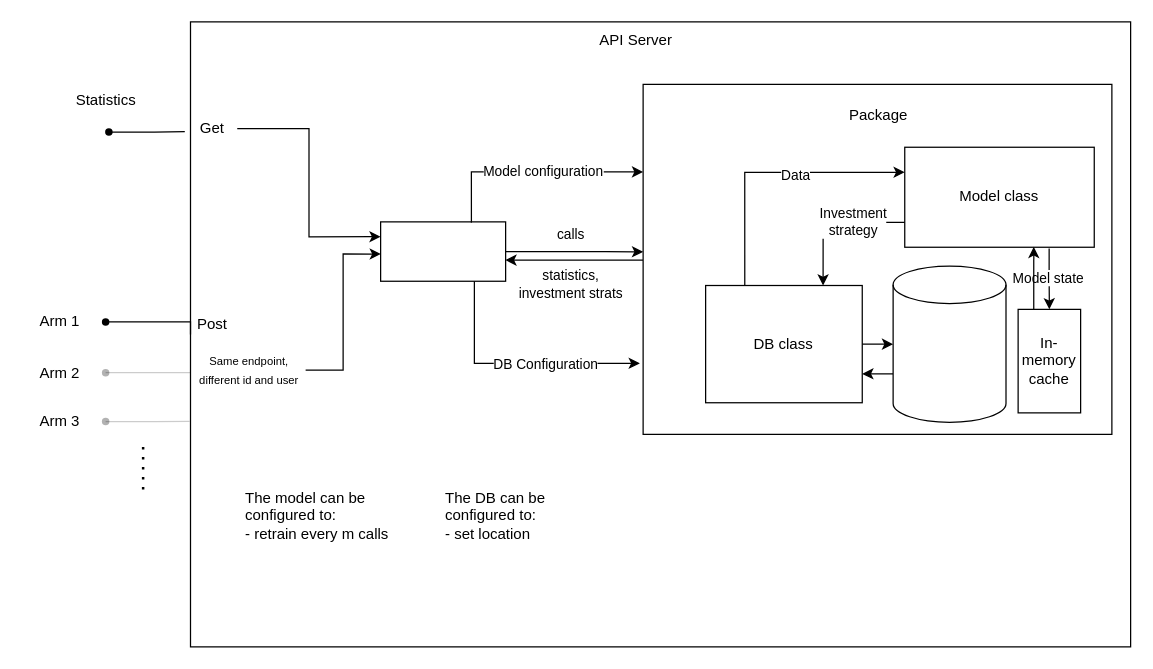
The diagram is 1153 pixels wide and 669 high, and some of its shapes have lost their labels. Here are the shapes that lost their labels. From the top down, the centre of each, then its label:
At point 442,251: "API".
At point 949,343: "DB".
